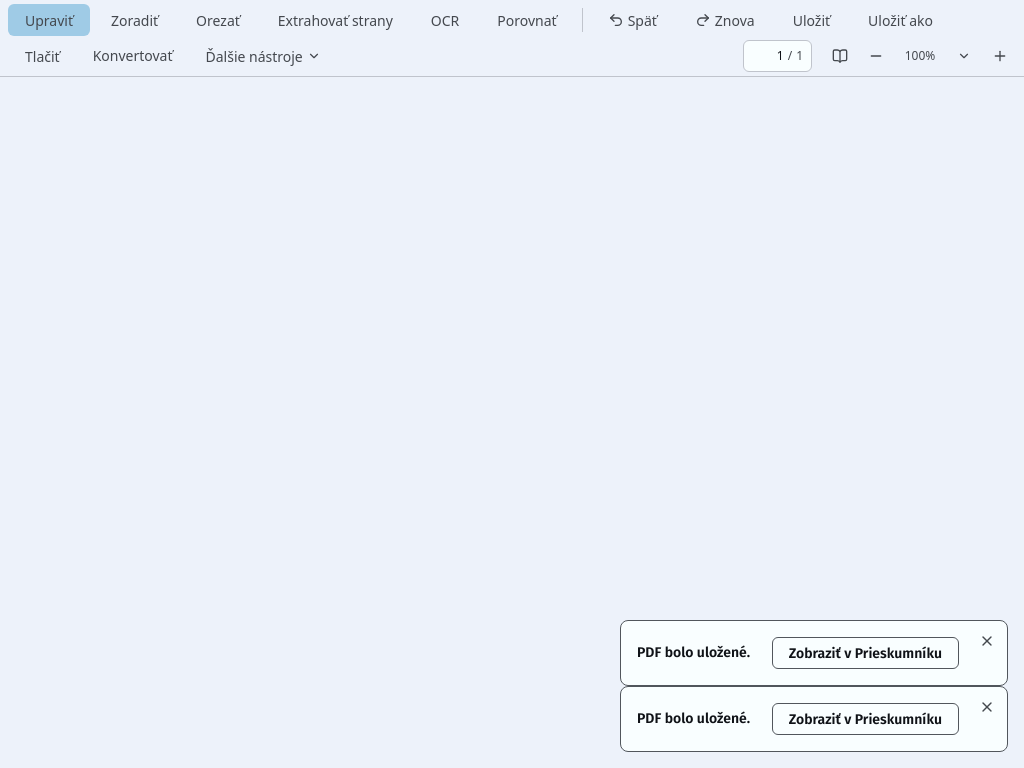
it: WorkspaceTopBar › places Tlačiť after Uložiť ako and before Konvertovať and opens pre-flight
This screenshot has width=1024, height=768.
Step 1. Click the button "Tlačiť" → (42,56), box [8,40,77,72]
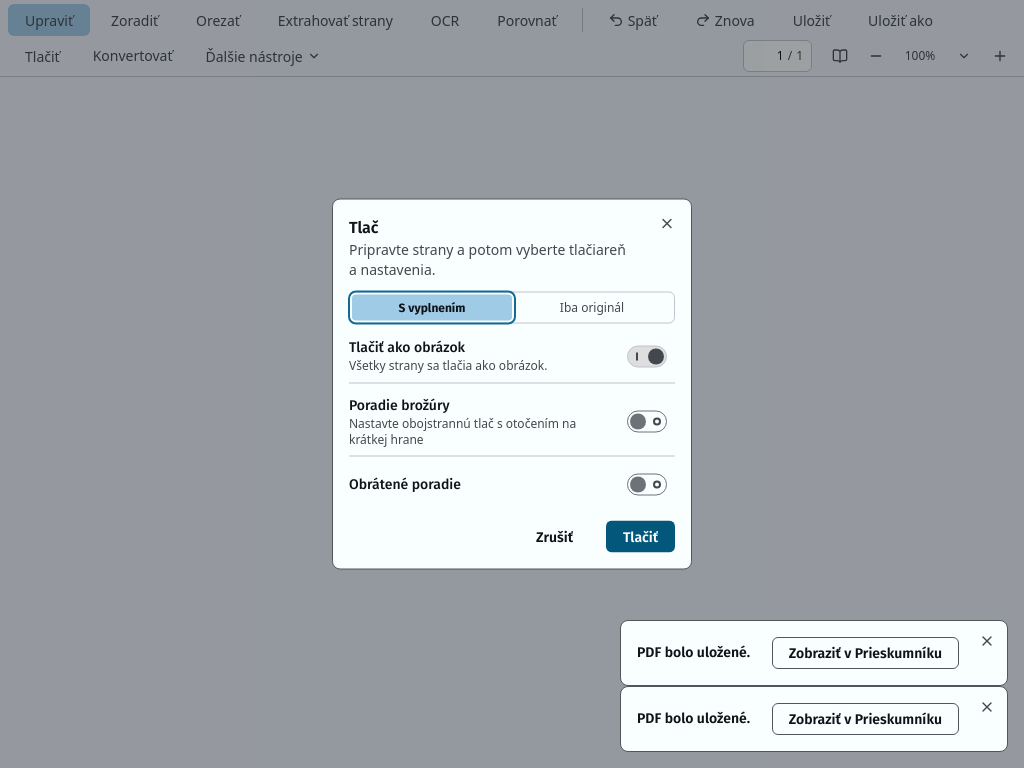
Expected: the heading "Tlač" is shown, [349,218,378,236]
